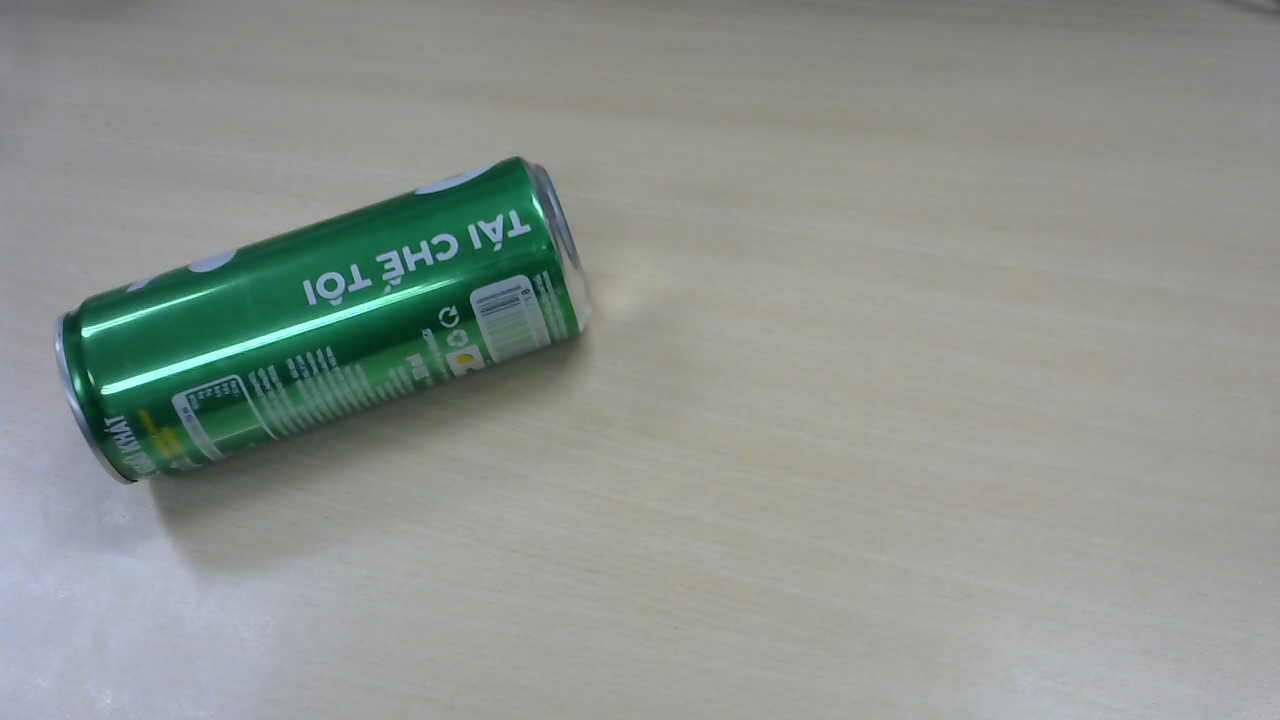Sprite: (56, 160, 592, 493)
